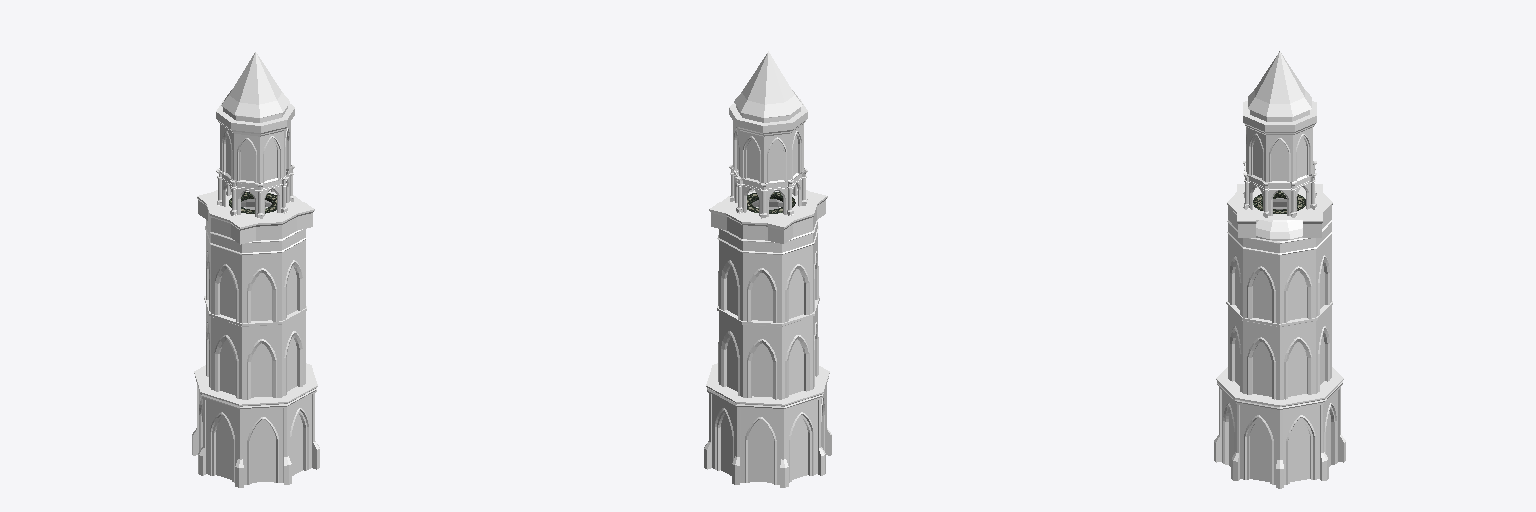
3 renders of one model, left to right at view 1: azimuth 30°, elevation 25°; view 2: azimuth 150°, elevation 25°; view 3: azimuth 270°, elevation 25°, orthographic.
Parts seen in each view (by area): view 1: mesh4, mesh0, mesh5, mesh1, mesh11, mesh10; view 2: mesh4, mesh0, mesh5, mesh1, mesh11, mesh10; view 3: mesh4, mesh0, mesh1, mesh5, mesh11, mesh10.
Part boxes in pixels (x1,y1,x2,y2): mesh4: (199,122,311,484); mesh0: (192,99,319,487); mesh5: (198,169,312,254); mesh1: (221,52,289,117); mesh11: (200,190,310,225); mesh10: (197,121,313,326); mesh4: (712,122,824,484); mesh0: (704,99,831,487); mesh5: (711,169,825,254); mesh1: (734,51,802,117); mesh11: (713,190,823,225); mesh10: (710,121,826,326); mesh4: (1222,127,1337,484); mesh0: (1214,101,1345,488); mesh1: (1248,51,1311,116); mesh5: (1227,170,1332,254); mesh11: (1230,185,1329,219); mesh10: (1226,123,1332,326).
Bounding box in the file's own units: 20.44 × 69.96 × 20.44.
12 materials, 2 textured.